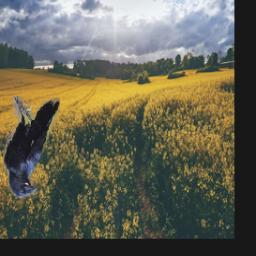Crow: (4, 97, 61, 198)
